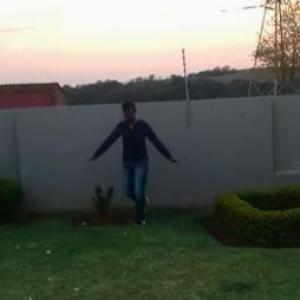land: (90, 102, 182, 230)
